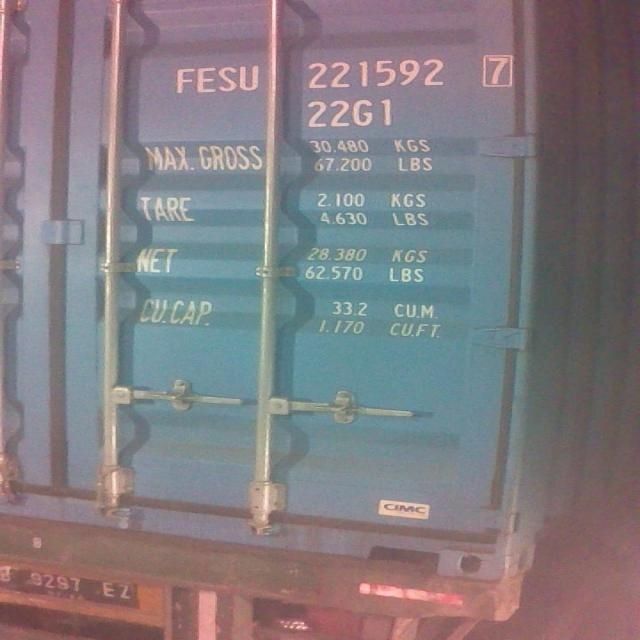seal: (111, 499, 138, 532)
